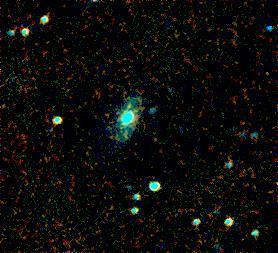star: (116, 90, 146, 120)
